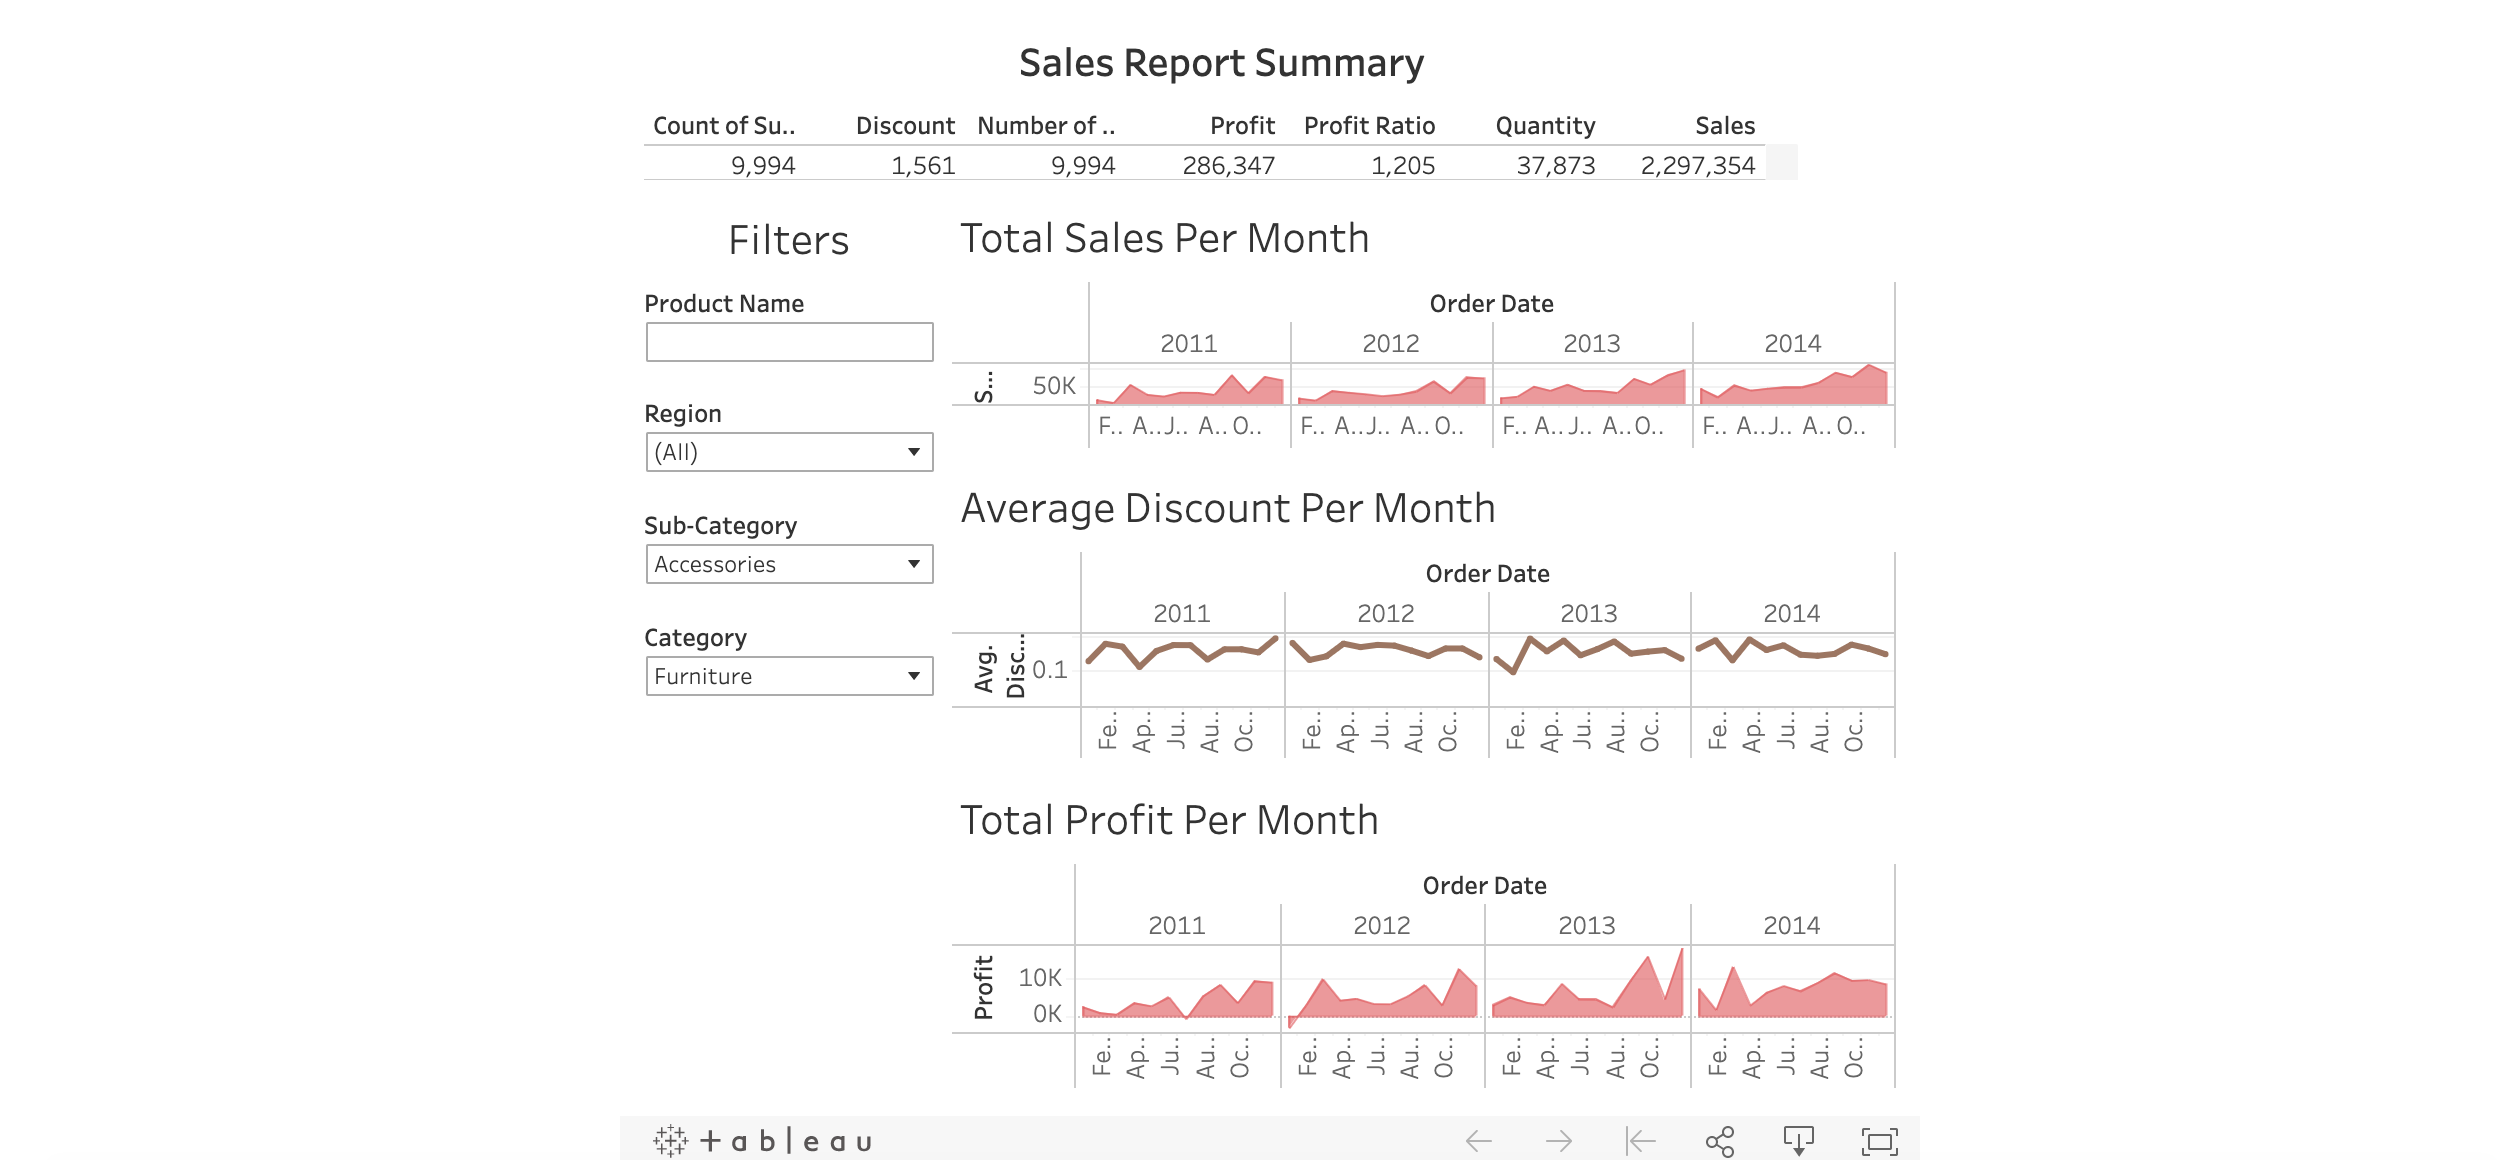

Layout of this report page (visuals, bound fields, positions):
{"tool":"tableau","page":{"name":"Dashboard 1","canvas":[650,860],"ordinal":0},"visuals":[{"type":"worksheet","title":"Sheet 1","mark":"Automatic","box":[8,11.2,634,135.6]},{"type":"worksheet","title":"Sheet 2","mark":"Automatic","box":[8,146.8,154,67.1]},{"type":"worksheet","title":"Sheet 3","mark":"Area","rows":["Sales"],"cols":["Order Date","Order Date"],"box":[162,146.8,480,208.3]},{"type":"filter","title":"Sheet 2","param":"[federated.07oz0tx0t3hzti1ca1sy51dxnhki].[none:Product Name:nk]","box":[8,213.9,154,68.5]},{"type":"filter","title":"Sheet 2","param":"[federated.07oz0tx0t3hzti1ca1sy51dxnhki].[none:Region:nk]","box":[8,282.5,154,72.7]},{"type":"filter","title":"Sheet 2","param":"[federated.07oz0tx0t3hzti1ca1sy51dxnhki].[none:Sub-Category:nk]","box":[8,355.2,154,72.7]},{"type":"worksheet","title":"Sheet 4","mark":"Automatic","rows":["Discount"],"cols":["Order Date","Order Date"],"box":[162,355.2,480,239.1]},{"type":"filter","title":"Sheet 2","param":"[federated.07oz0tx0t3hzti1ca1sy51dxnhki].[none:Category:nk]","box":[8,427.9,154,72.7]},{"type":"worksheet","title":"Sheet 5","mark":"Area","rows":["Profit"],"cols":["Order Date","Order Date"],"box":[162,594.3,480,254.5]}]}

Visuals, with their boxes on the page's 650x860 design canvas (x1, y1, x2, y2). These are canvas units, not pixel positions in the 2520x1160 screenshot, which may show the page scaled, cropped or inside an application window:
"Sheet 1" worksheet: 8, 11, 642, 147
"Sheet 2" worksheet: 8, 147, 162, 214
"Sheet 3" worksheet (Area marks): 162, 147, 642, 355
"Sheet 2" filter: 8, 214, 162, 282
"Sheet 2" filter: 8, 282, 162, 355
"Sheet 2" filter: 8, 355, 162, 428
"Sheet 4" worksheet: 162, 355, 642, 594
"Sheet 2" filter: 8, 428, 162, 501
"Sheet 5" worksheet (Area marks): 162, 594, 642, 849
